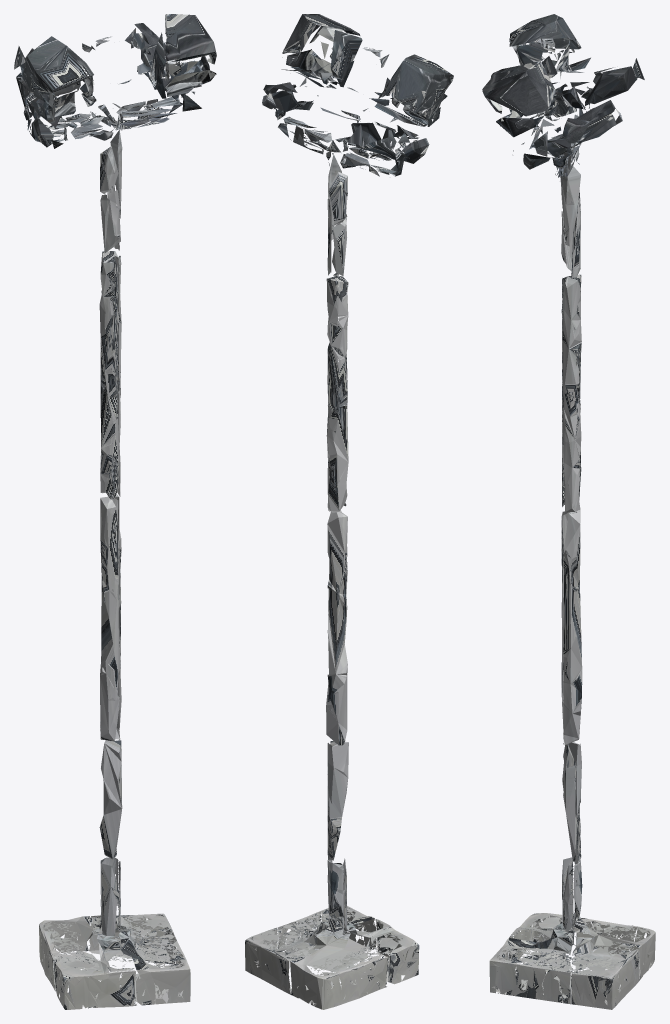
The model's file is CourtFloodlight.obj.
The picture shows the model from 3 angles, left to right: view 1: azimuth 30°, elevation 25°; view 2: azimuth 150°, elevation 25°; view 3: azimuth 270°, elevation 25°; orthographic projection. The views are drawn at different scales.
Bounding box in the file's own units: 1.1 × 6 × 1.01.
Materials: 1 (1 with a texture image).
